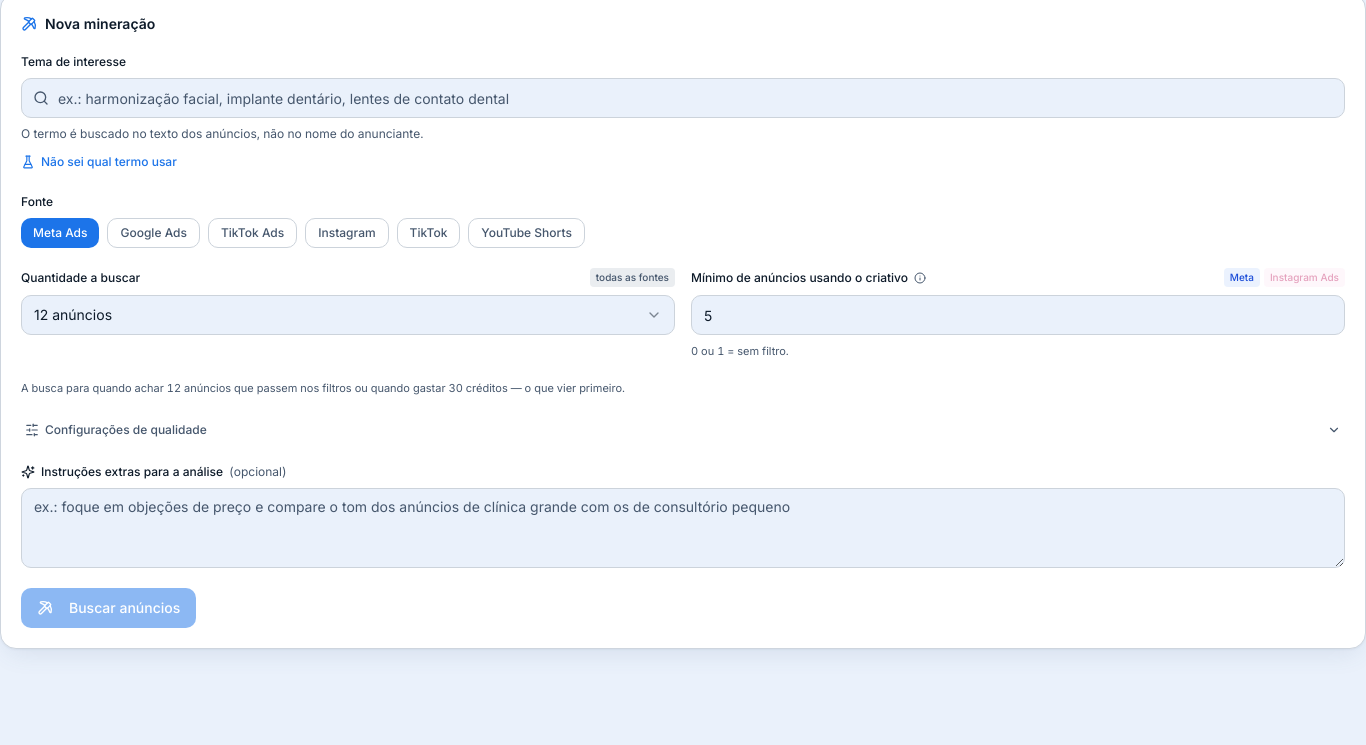
Scenario: MineracaoForm › parte com só a replicação ligada: 5 no criativo e nenhum outro filtro
The width and height of the screenshot is (1366, 745).
Click the button "Configurações de qualidade".
click(126, 430)  # box 21,416 -> 1345,444
(page scrolled)
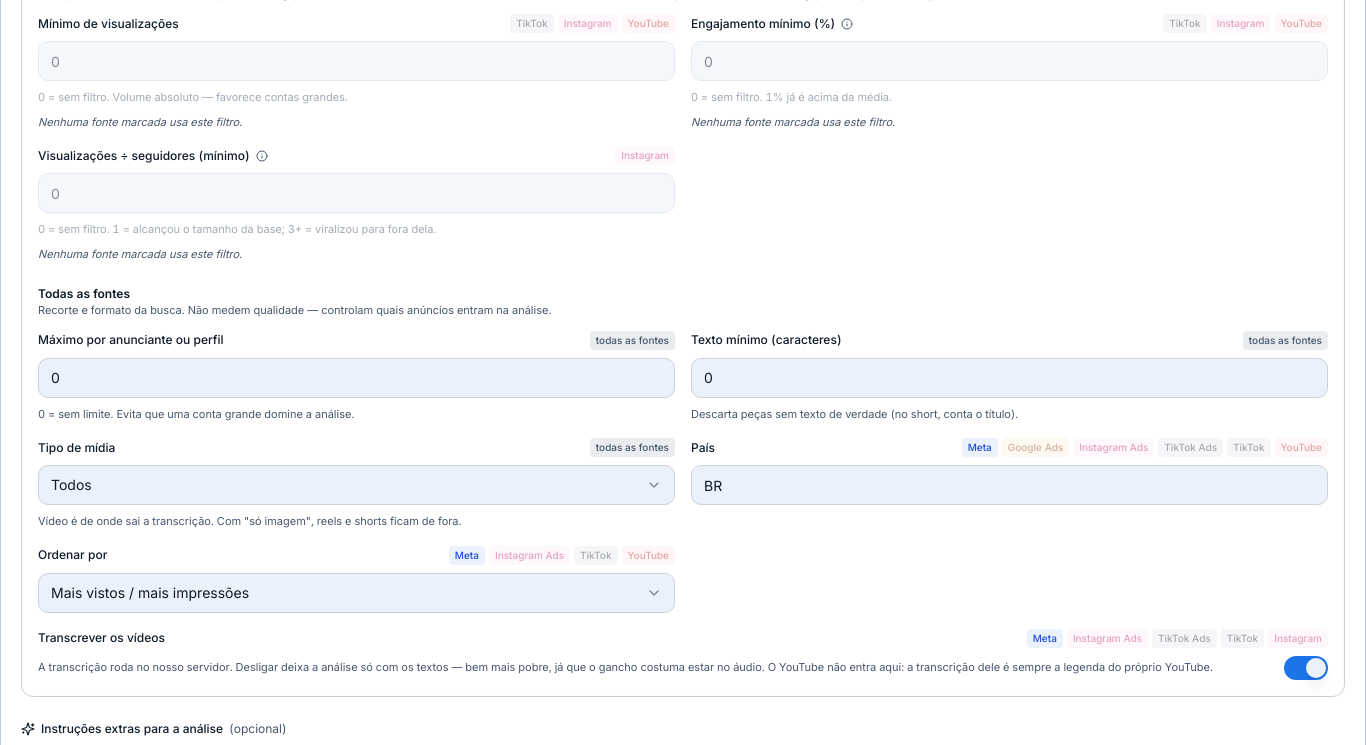
Check: the number field labelled "Máximo por anunciante ou perfil" holds "0", box 38,358 -> 675,398
Check: the number field labelled "Texto mínimo (caracteres)" holds "0", box 691,358 -> 1328,398
